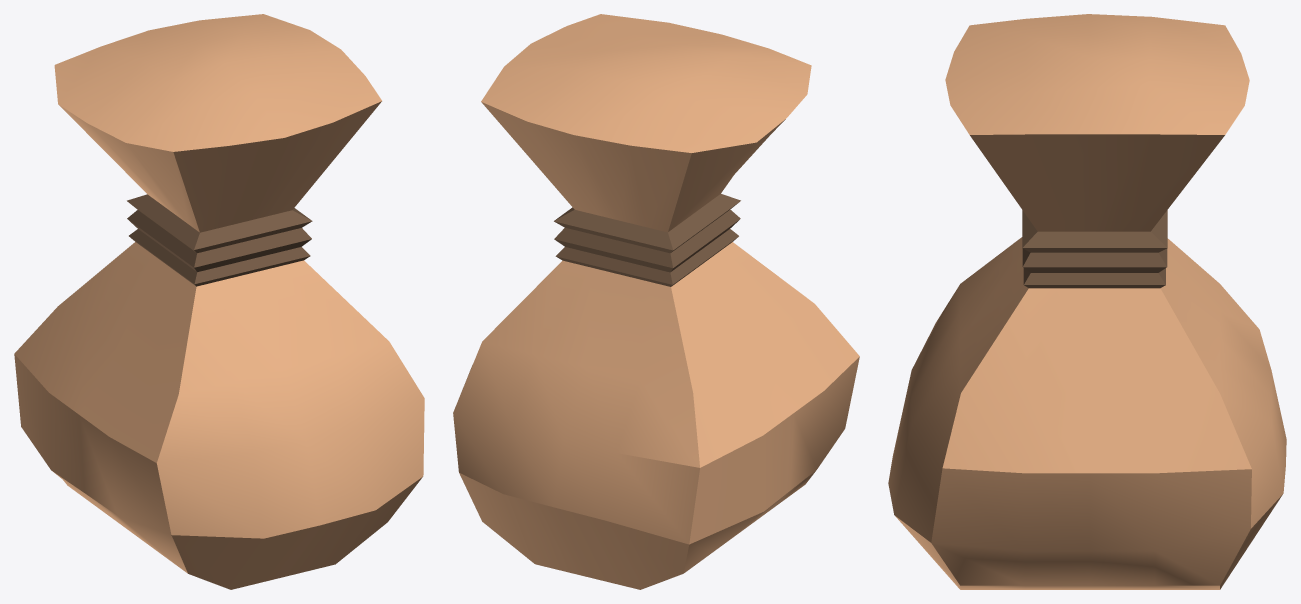
File: Sacco 3.fbx
3 views of the same model, side by side, from view 1: azimuth 30°, elevation 25°; view 2: azimuth 150°, elevation 25°; view 3: azimuth 270°, elevation 25° (orthographic). The views are drawn at different scales.
Visible parts, largest first — view 1: Cube.014; view 2: Cube.014; view 3: Cube.014.
Boxes of the visible parts, bbox=[...] form: Cube.014: bbox=[14, 14, 424, 589]; Cube.014: bbox=[453, 14, 859, 589]; Cube.014: bbox=[888, 14, 1286, 589].
Size of the model in its own units: 105 by 164 by 117.
